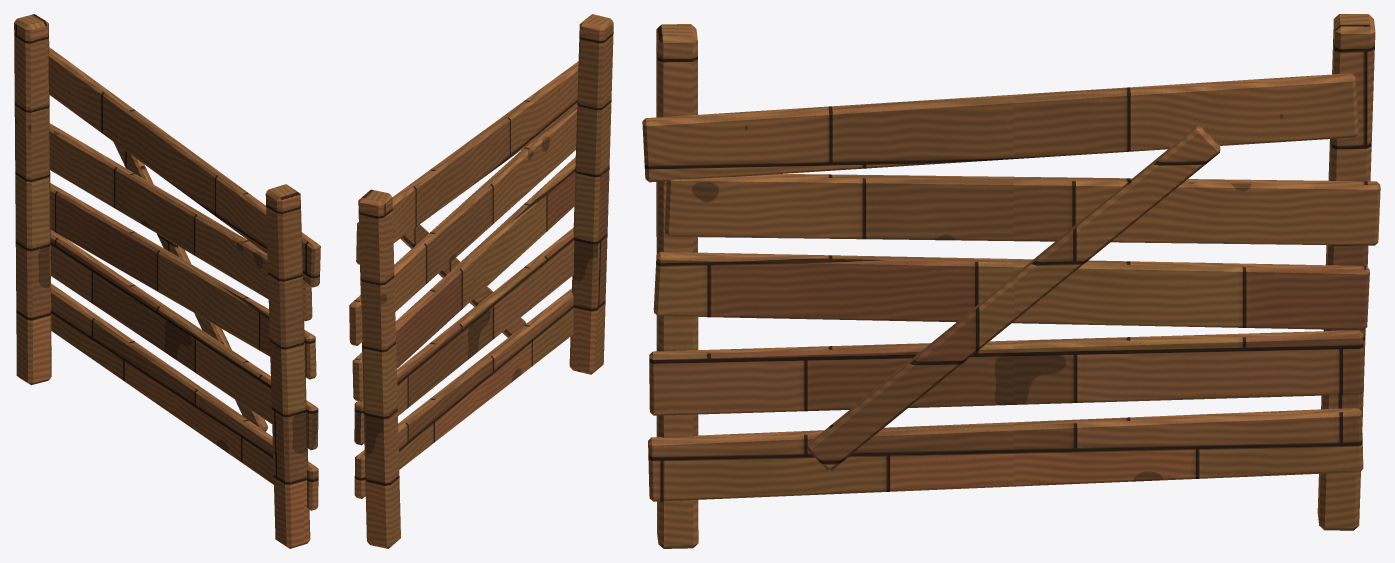
The model's file is Prop_Fence_L.fbx.
3 views of the same model, side by side, from view 1: azimuth 30°, elevation 25°; view 2: azimuth 150°, elevation 25°; view 3: azimuth 270°, elevation 25° (orthographic). The views are drawn at different scales.
Parts seen in each view (by area): view 1: Prop_Fence_L; view 2: Prop_Fence_L; view 3: Prop_Fence_L.
Part boxes in pixels (x1,y1,x2,y2): Prop_Fence_L: [14, 14, 320, 548]; Prop_Fence_L: [349, 14, 613, 548]; Prop_Fence_L: [642, 14, 1380, 548].
Bounding box in the file's own units: 0.2272 × 1.25 × 1.65.
Materials: 1 (1 with a texture image).
